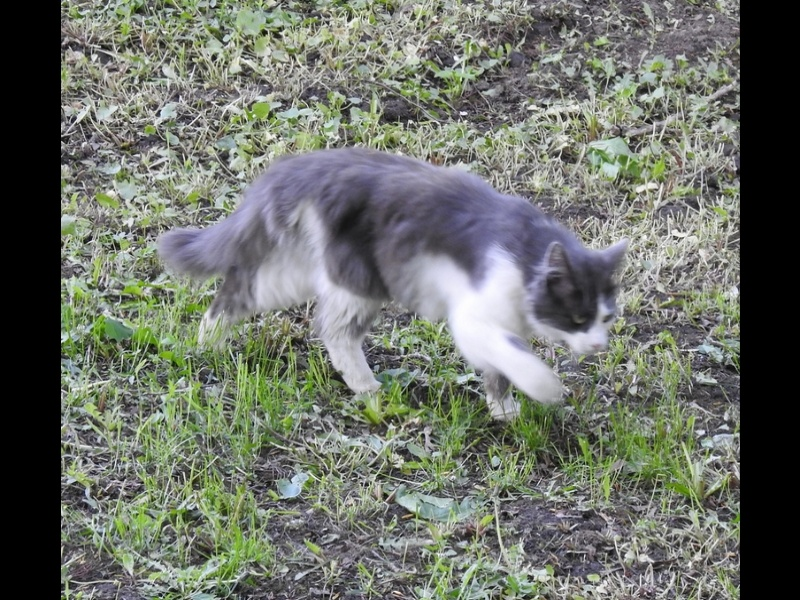cat: (158, 144, 625, 422)
